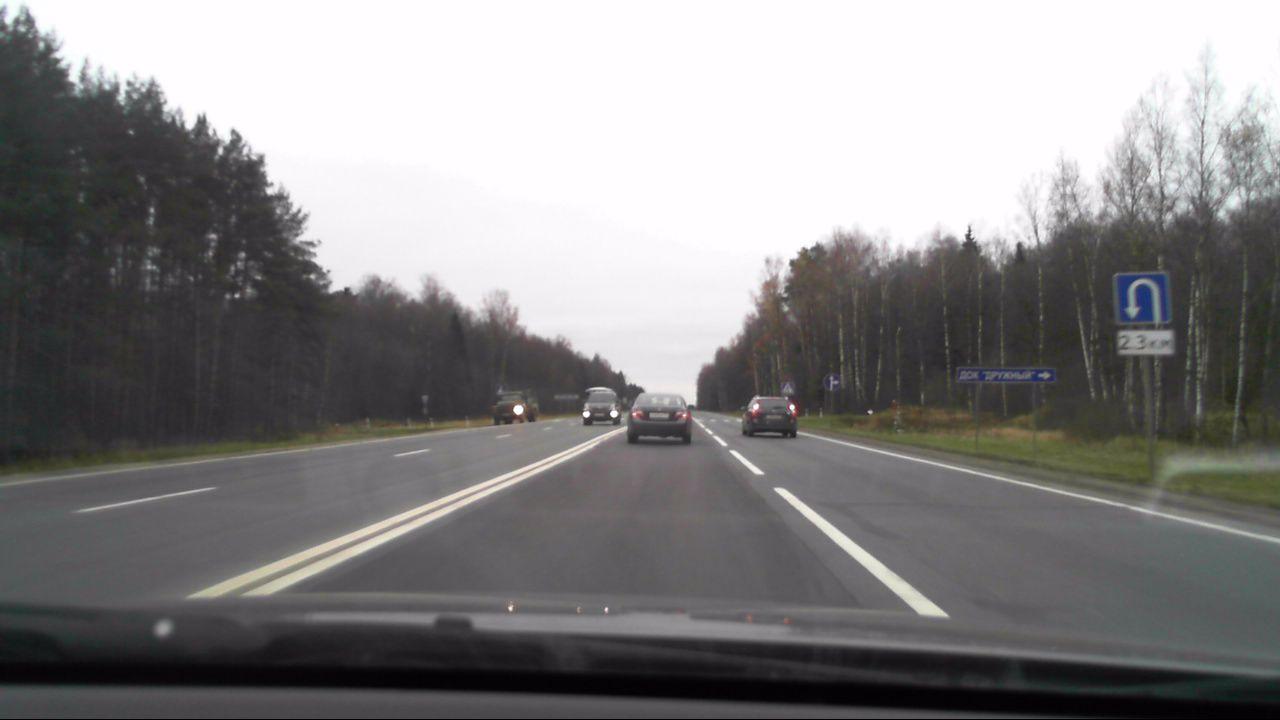U-turn: (1117, 274, 1167, 323)
